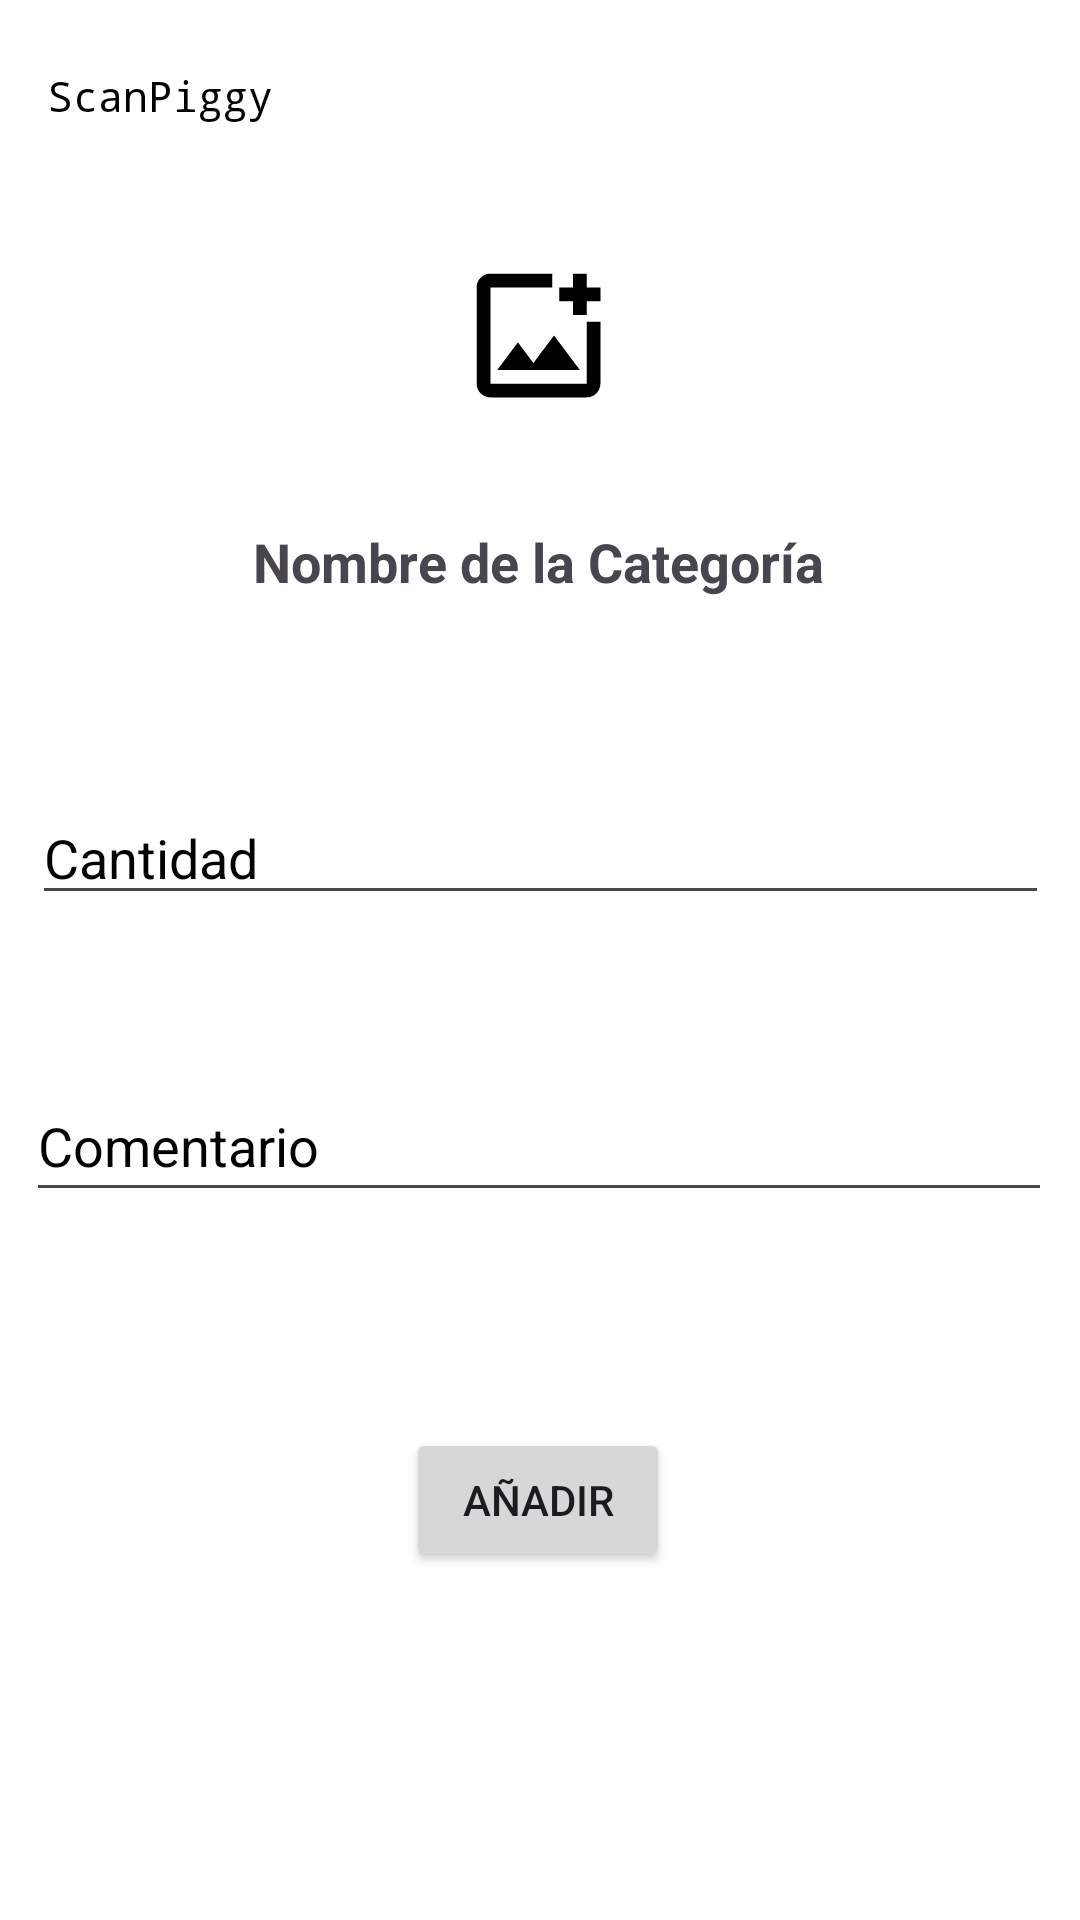

Where to tap for icons on this 1080w x 1920h app screen, as (x,y):
addphotoalternate: (538,335)
